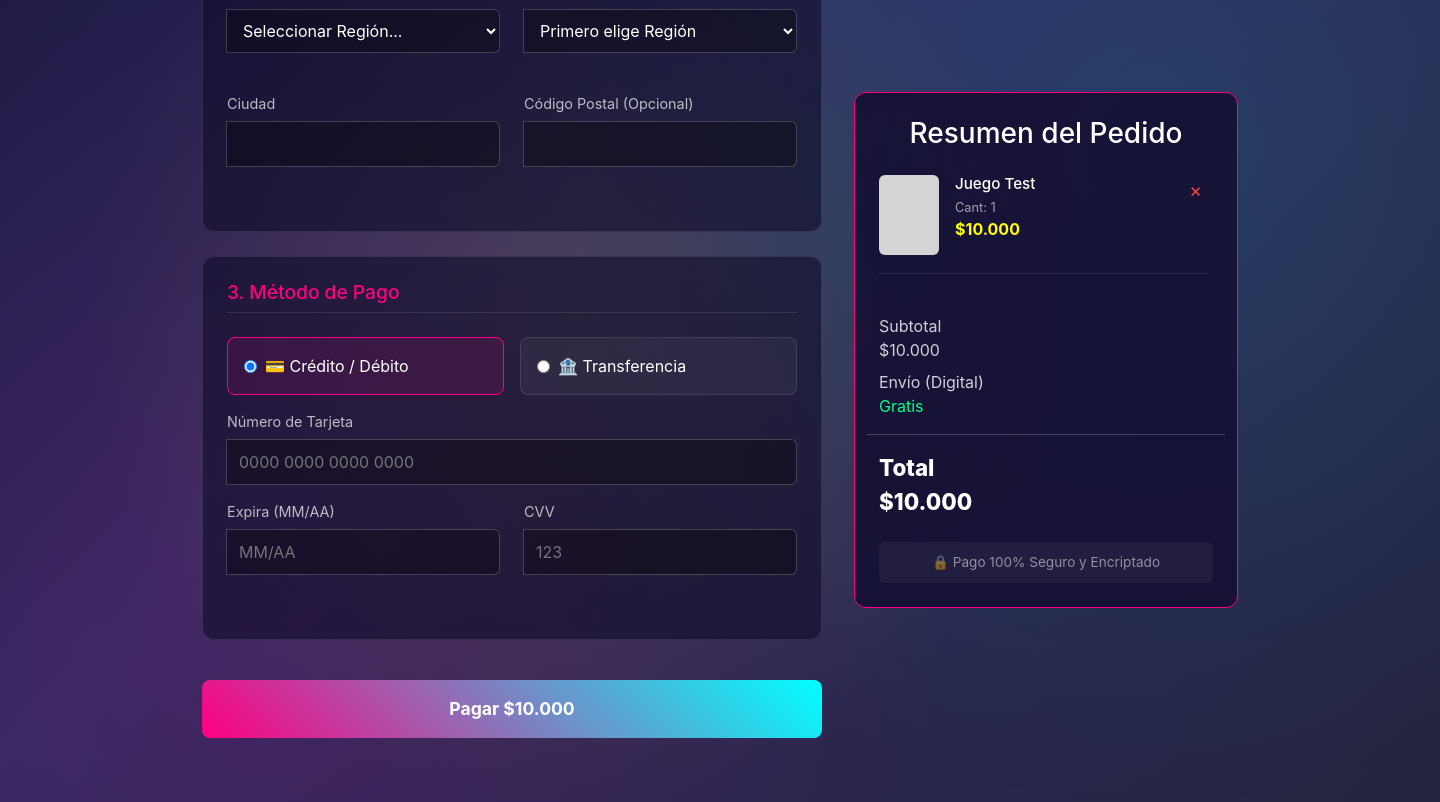
Test: Pruebas del Componente VerificarCompra › Debe mostrar errores de validación y NO enviar orden si falla
(page scrolled)
Click the button "Pagar $10.000". click: (512, 709)
box: [202,680,822,738]
(page scrolled)
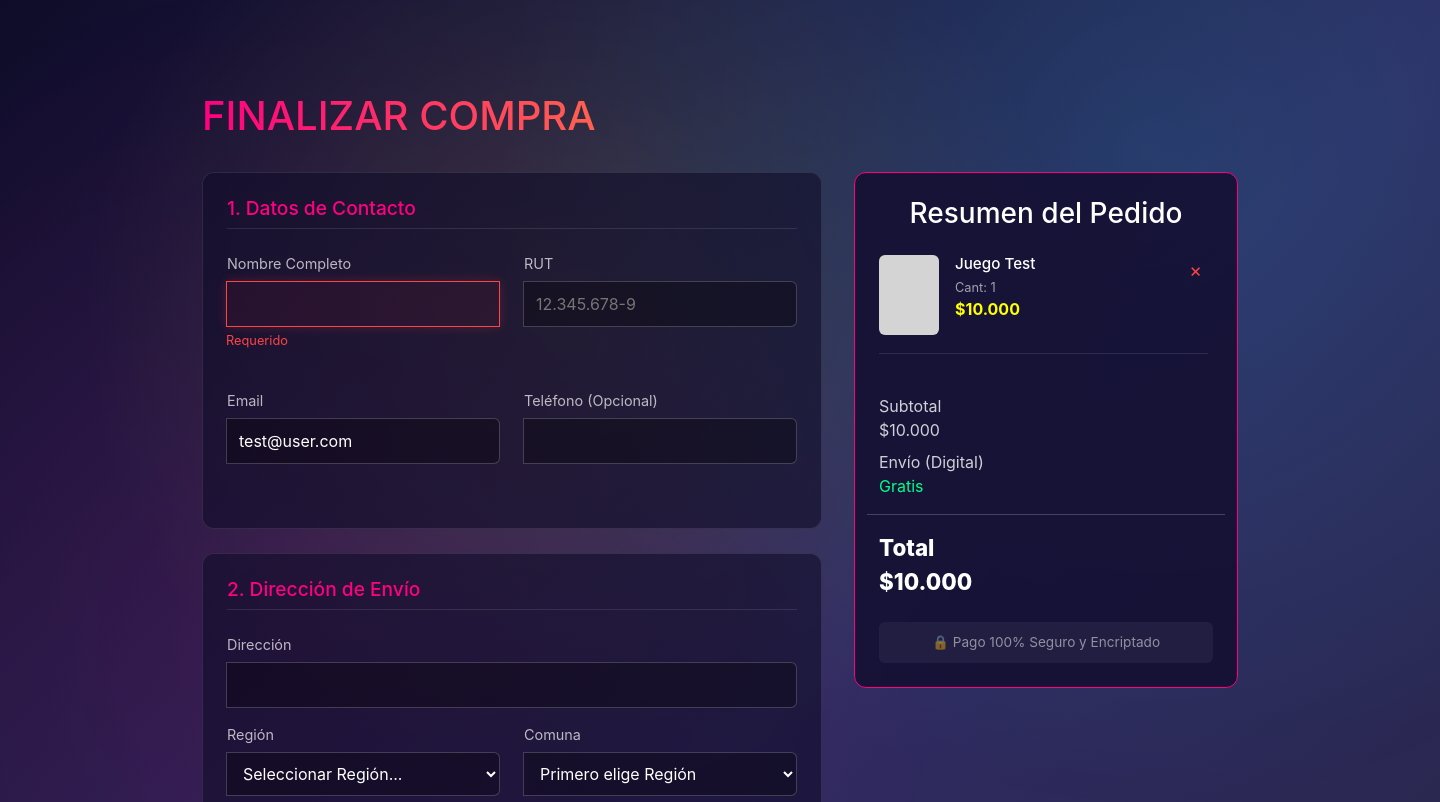
Expected: the text "Requerido" is shown, [226,333,288,348]
